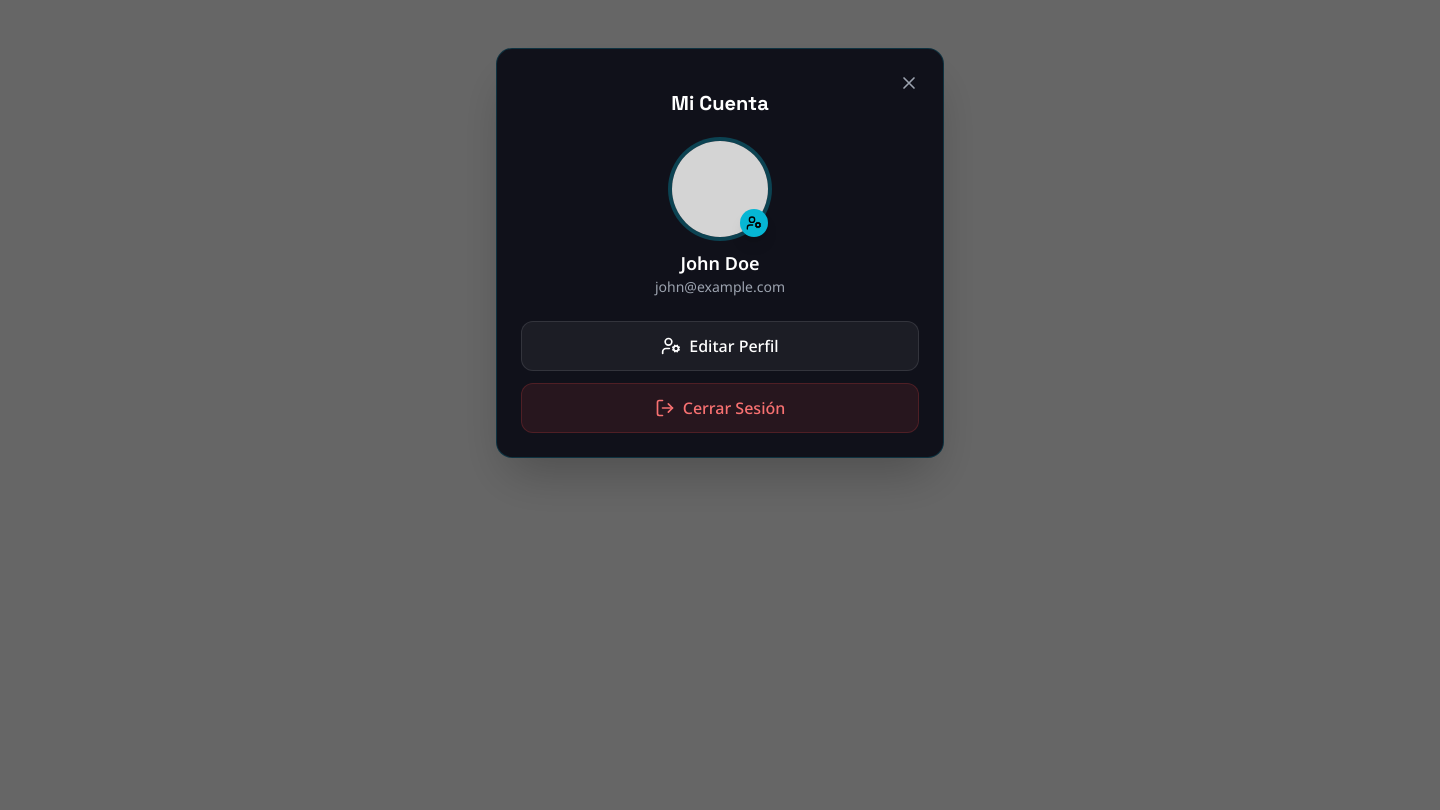
Test: AuthModal › Authenticated state › should show loading state during sign-out
Click the button "Cerrar Sesión".
click(720, 408)  # box [521,383,919,433]
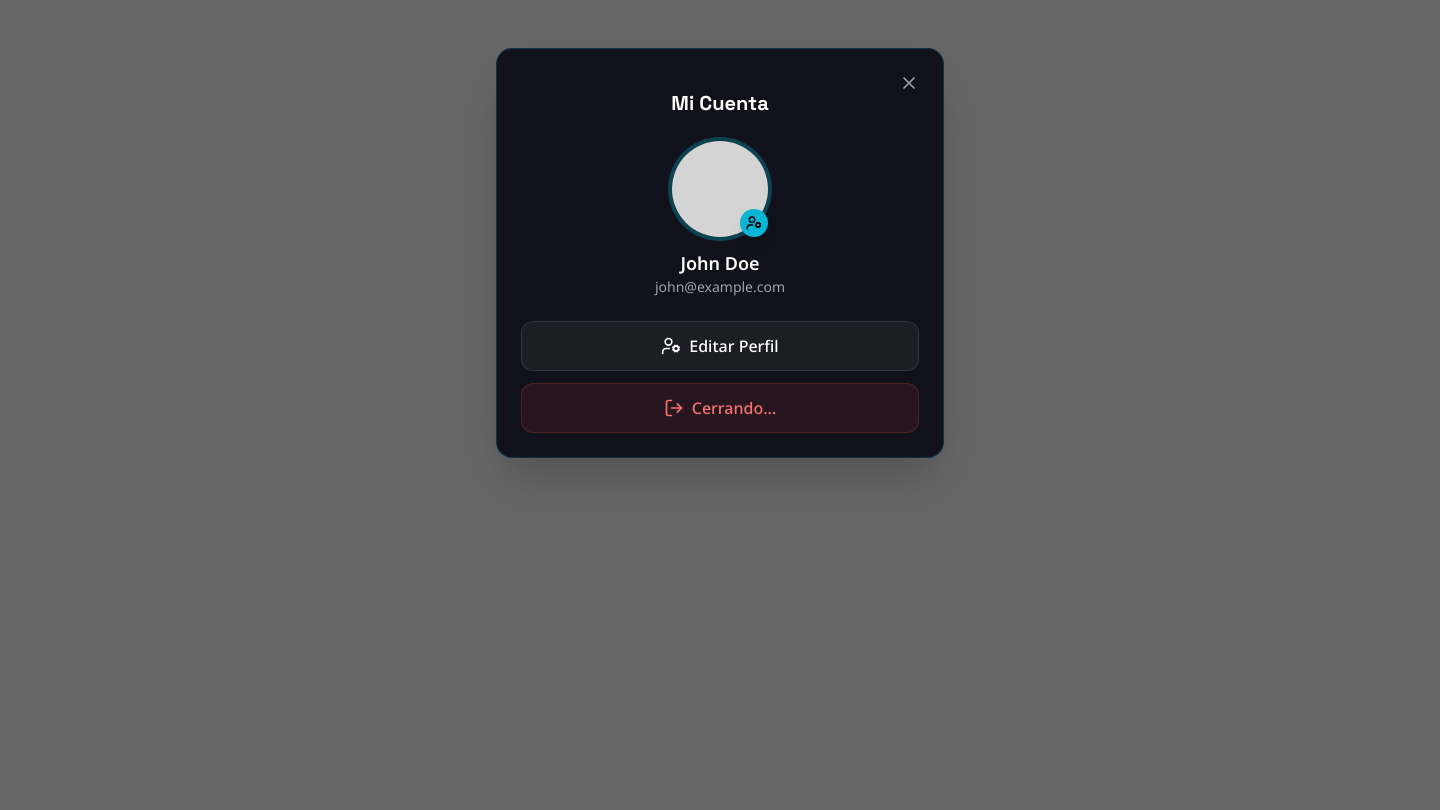
Expected: the button "Cerrando..." is disabled, [521,383,919,433]
